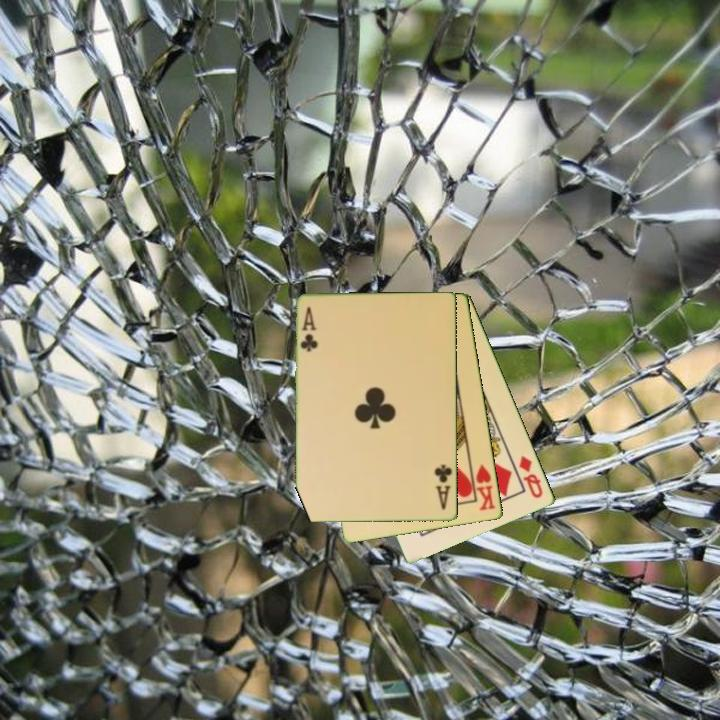Ac: (431, 461, 455, 513), (297, 303, 321, 355)
Kh: (468, 460, 498, 514)
Qd: (516, 452, 546, 501)
